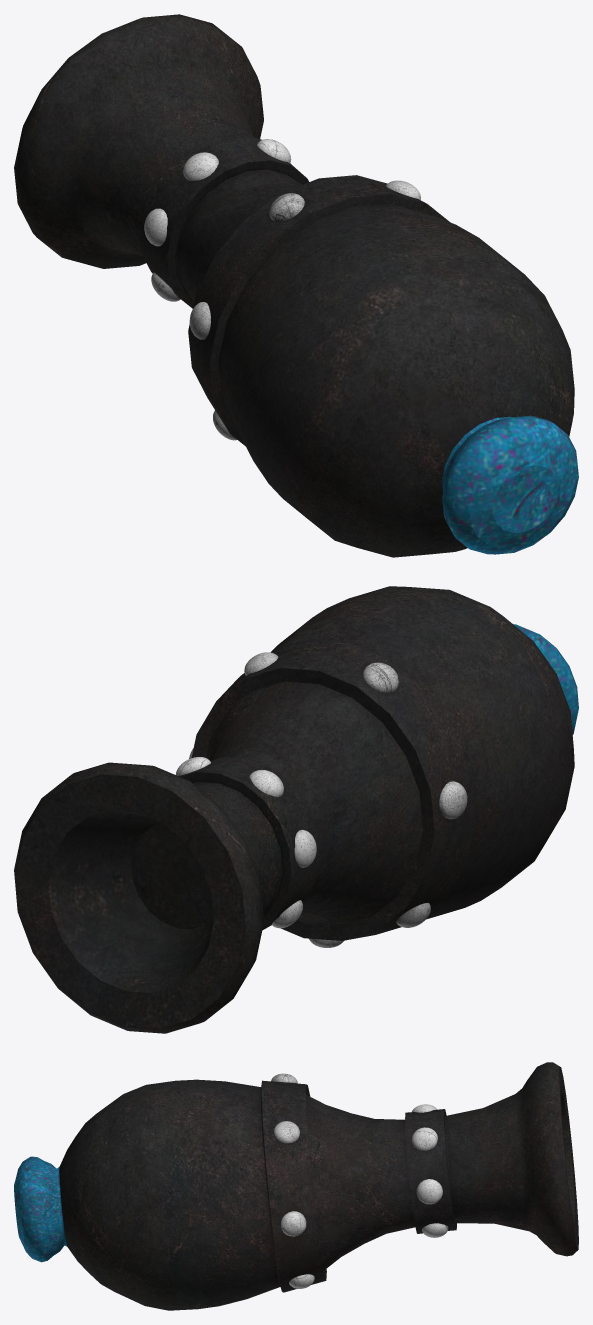
The model's file is Launcher.fbx.
The picture shows the model from 3 angles, top to bottom: view 1: azimuth 30°, elevation 25°; view 2: azimuth 150°, elevation 25°; view 3: azimuth 270°, elevation 25°; orthographic projection. The views are drawn at different scales.
Parts seen in each view (by area): view 1: pSphere16; view 2: pSphere16; view 3: pSphere16.
Boxes of the visible parts, x1=… form: pSphere16: x1=14, y1=14, x2=578, y2=557; pSphere16: x1=14, y1=586, x2=578, y2=1033; pSphere16: x1=14, y1=1062, x2=578, y2=1310.
Bounding box in the file's own units: 8.33 × 9.15 × 20.36.
1 material, 1 textured.
